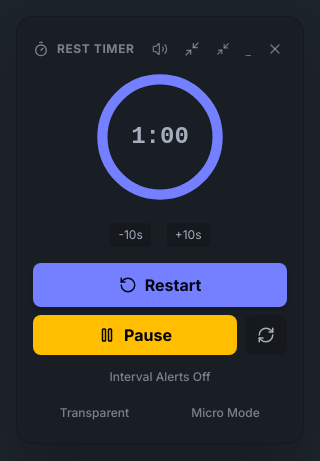
Test case: RestTimer › should subtract 10 seconds when -10s button is clicked
This screenshot has width=320, height=461.
Click the button "-10s". click: [131, 235]
box: [110, 223, 151, 247]
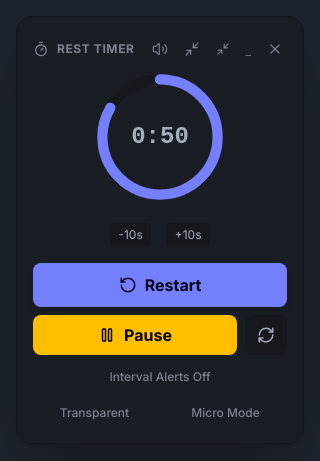
Check: the text "0:50" is shown, box [131, 121, 189, 153]
